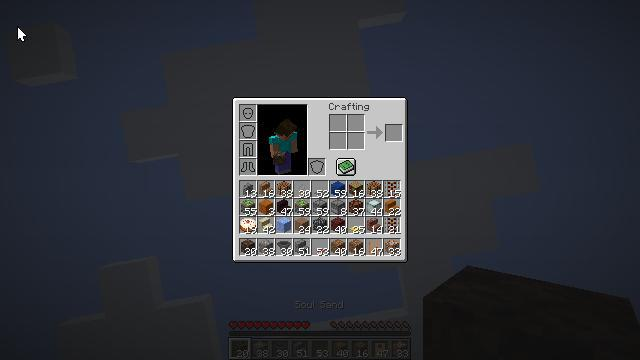cursor: (17, 26, 27, 42)
